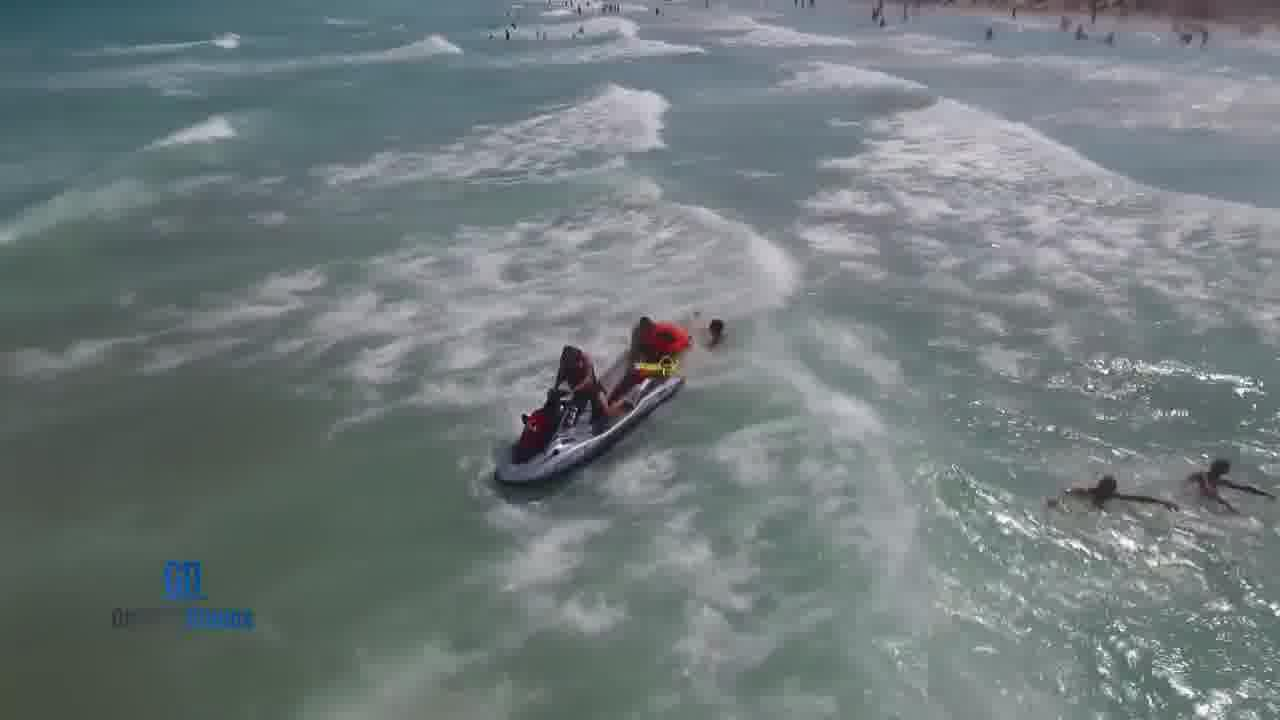swimmer: (1189, 435, 1260, 518), (626, 303, 689, 362), (1075, 461, 1131, 515), (699, 307, 763, 353)
